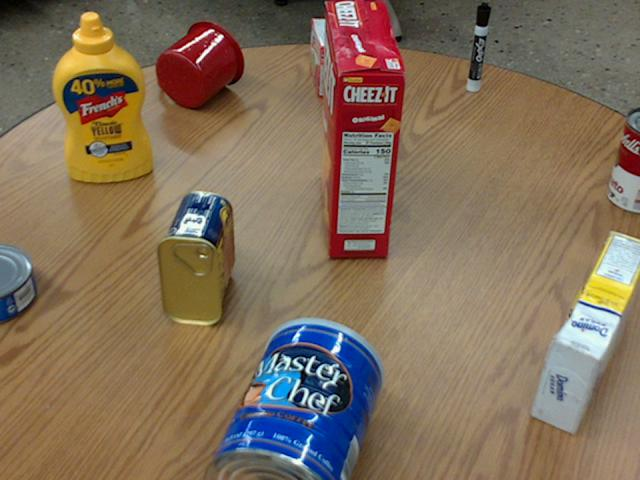cracker_box: (315, 1, 403, 257)
gelatin_box: (310, 19, 340, 96)
large_marker: (465, 4, 489, 90)
master_chef_can: (203, 317, 383, 479)
mug: (155, 20, 243, 107)
mustard_bottle: (53, 12, 150, 181)
potted_meat_can: (155, 189, 231, 325)
sugar_box: (531, 231, 639, 434)
tomato_soup_can: (604, 108, 639, 214)
tuna_fish_can: (0, 242, 35, 319)
